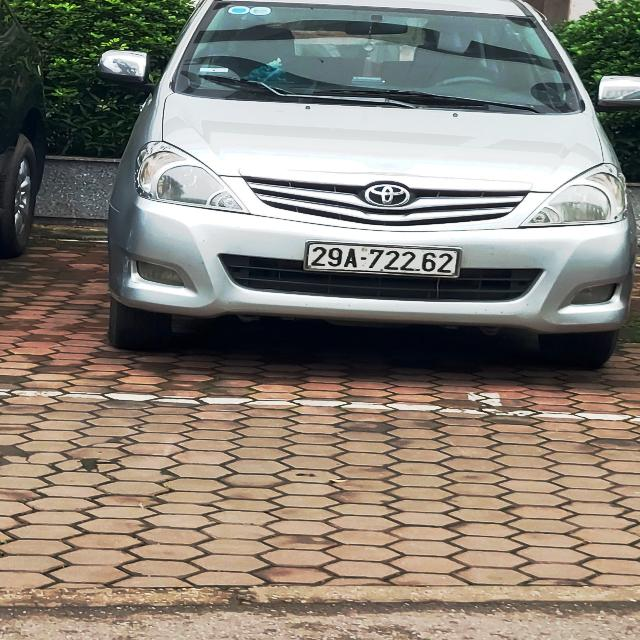license_plate: (308, 243, 461, 279)
